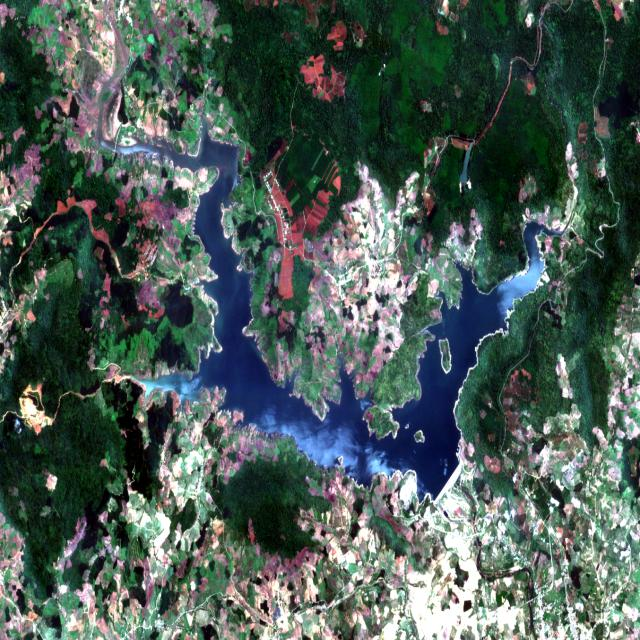bard_land: (439, 338, 452, 373), (414, 429, 425, 442)
river: (95, 21, 575, 502)
